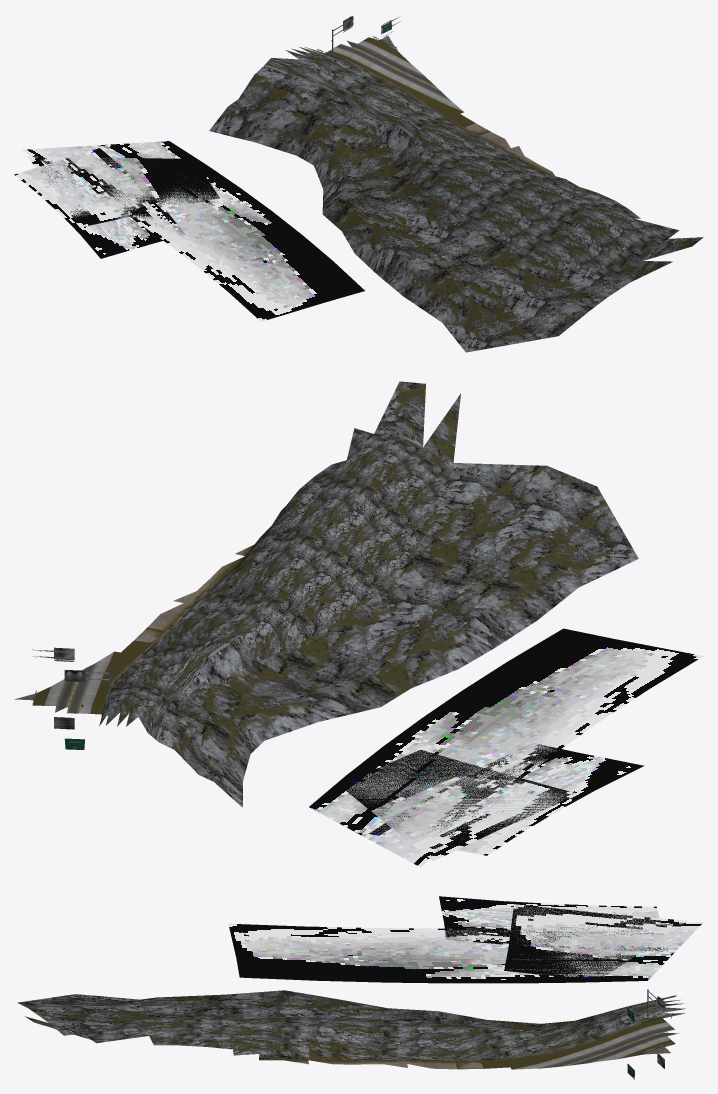
The model's file is world_camden_15_-11.gltf.
The picture shows the model from 3 angles, top to bottom: view 1: azimuth 30°, elevation 25°; view 2: azimuth 150°, elevation 25°; view 3: azimuth 270°, elevation 25°; orthographic projection. The views are drawn at different scales.
Size of the model in its own units: 193 by 36.36 by 281.
29 materials, 29 textured.
